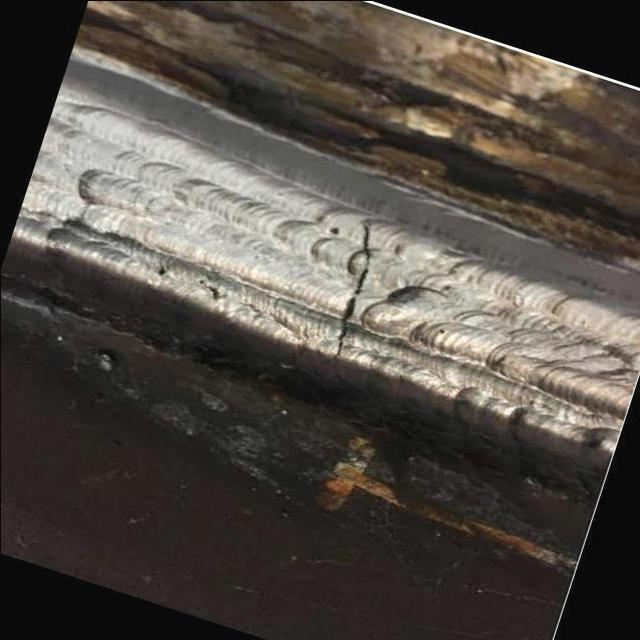defect: (328, 224, 375, 363)
